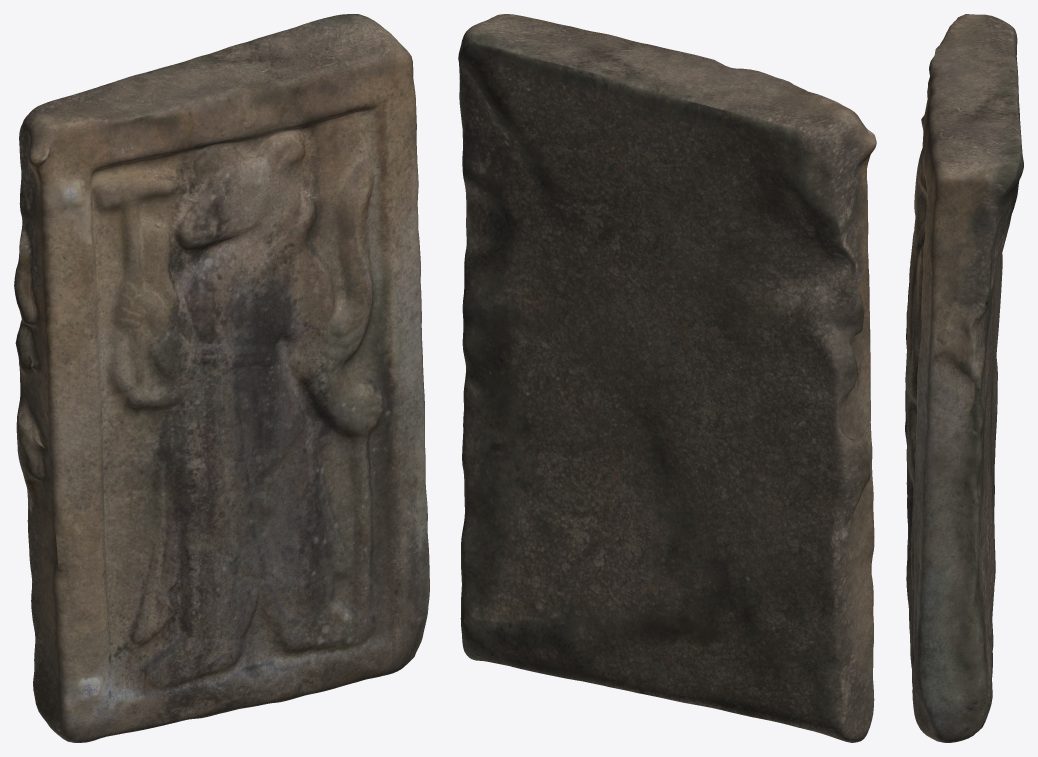
3 renders of one model, left to right at view 1: azimuth 30°, elevation 25°; view 2: azimuth 150°, elevation 25°; view 3: azimuth 270°, elevation 25°, orthographic. The views are drawn at different scales.
Parts seen in each view (by area): view 1: Object_2; view 2: Object_2; view 3: Object_2.
Part boxes in pixels (box(x1,y1,x2,y2)): Object_2: box(14, 14, 429, 742); Object_2: box(458, 14, 876, 742); Object_2: box(905, 14, 1023, 742).
Size of the model in its own units: 0.6272 by 0.9667 by 0.1799.
1 material, 1 textured.
